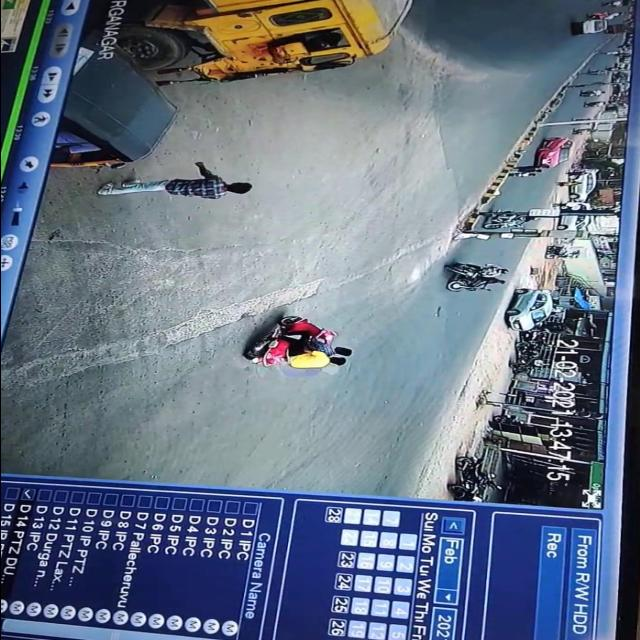accident: (437, 258, 519, 296)
